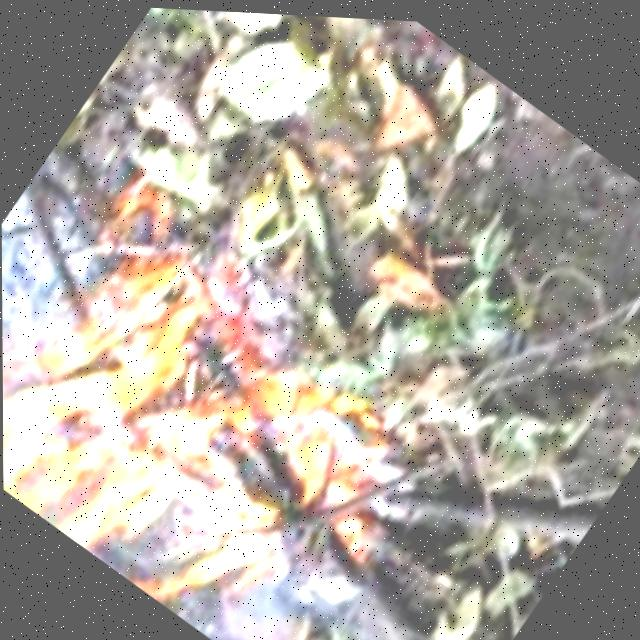Fire: (1, 156, 472, 640)
